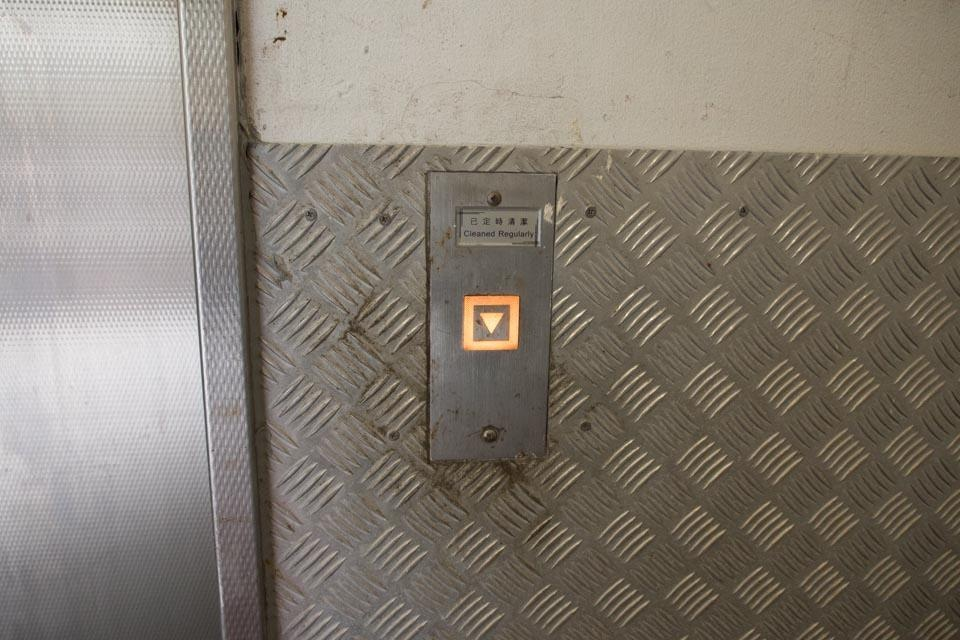down: (461, 290, 519, 351)
